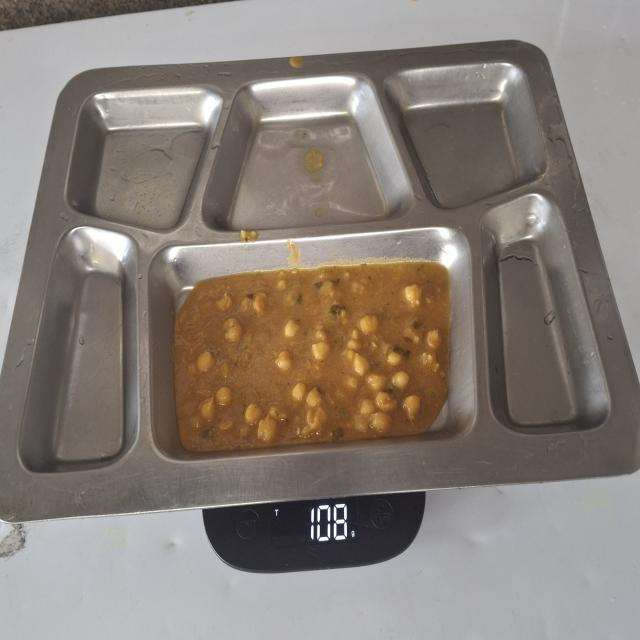Dal: (172, 259, 455, 451)
